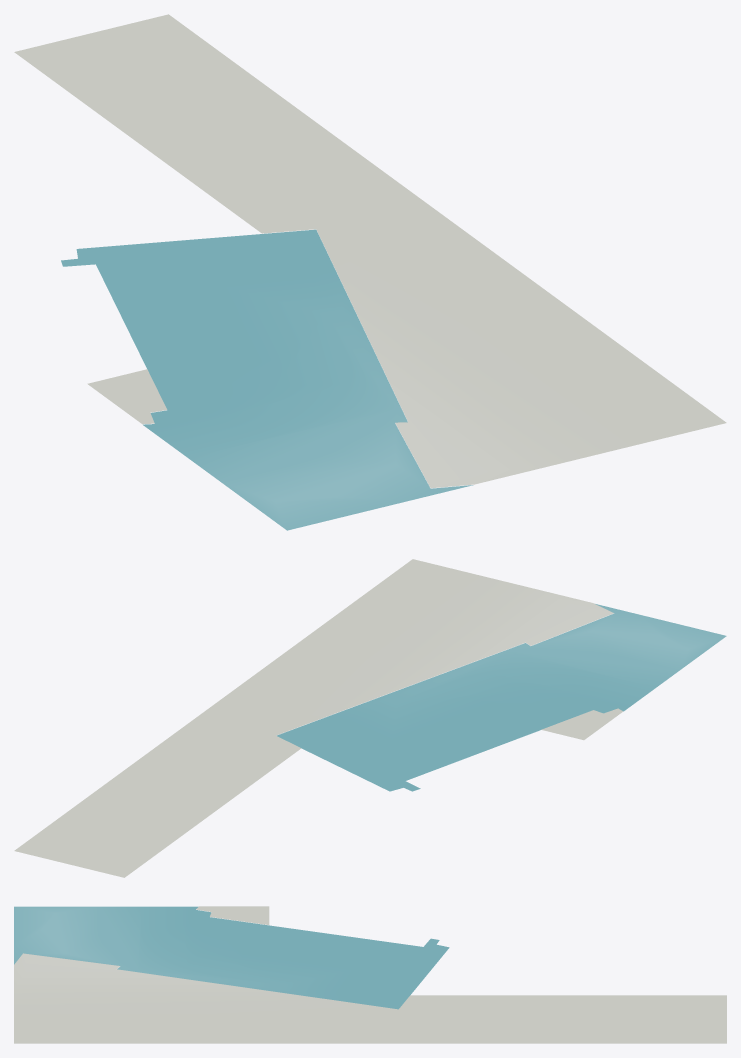
3 views of the same model, one above another, from view 1: azimuth 30°, elevation 25°; view 2: azimuth 150°, elevation 25°; view 3: azimuth 270°, elevation 25° (orthographic). The views are drawn at different scales.
Visible parts, largest first — view 1: city; view 2: city; view 3: city.
Part boxes in pixels (box(x1,y1,x2,y2)): city: box(14, 14, 726, 530); city: box(14, 559, 726, 877); city: box(14, 906, 726, 1043).
Size of the model in its own units: 227 by 0.18 by 500.
